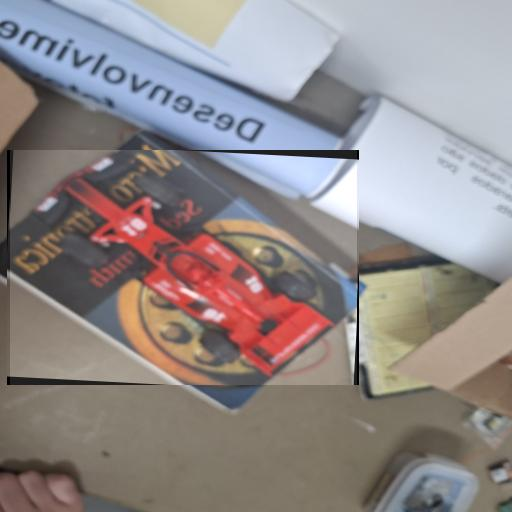carro: (10, 150, 356, 385)
